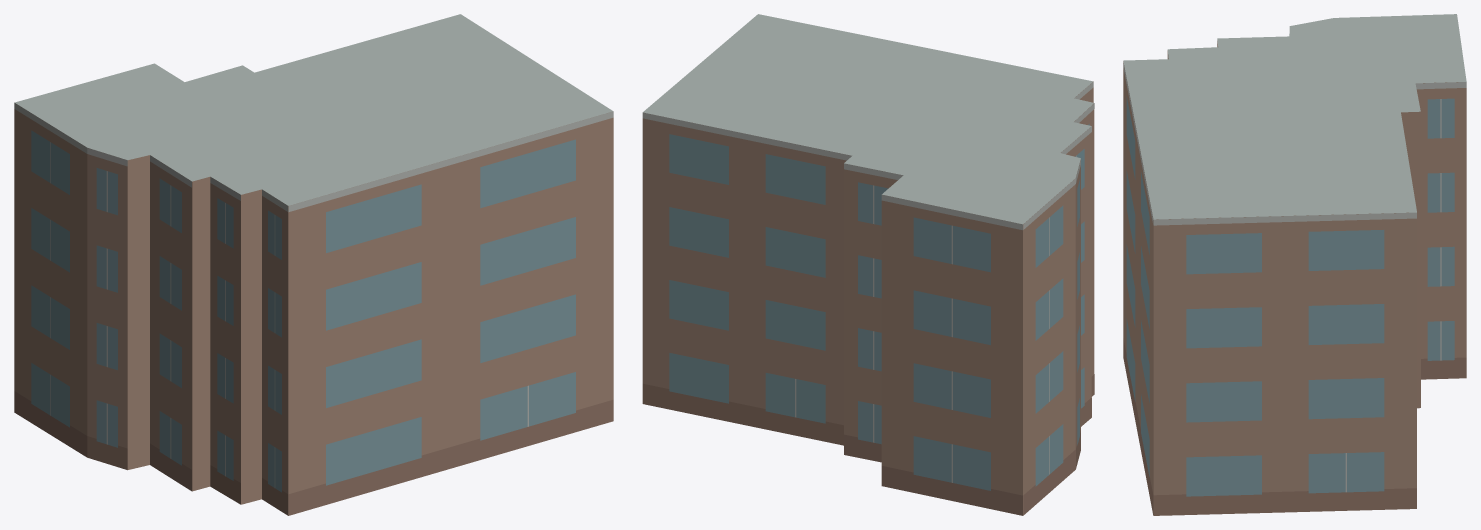
Rendered from survey-upis-32735352.glb.
3 renders of one model, left to right at view 1: azimuth 30°, elevation 25°; view 2: azimuth 150°, elevation 25°; view 3: azimuth 270°, elevation 25°, orthographic. The views are drawn at different scales.
Parts seen in each view (by area): view 1: survey-upis-32735352.tmp; view 2: survey-upis-32735352.tmp; view 3: survey-upis-32735352.tmp.
Part boxes in pixels (<box>): survey-upis-32735352.tmp: <box>14,14,613,515</box>; survey-upis-32735352.tmp: <box>642,14,1094,515</box>; survey-upis-32735352.tmp: <box>1123,14,1466,515</box>.
Bounding box in the file's own units: 17.78 × 11.95 × 12.56.
